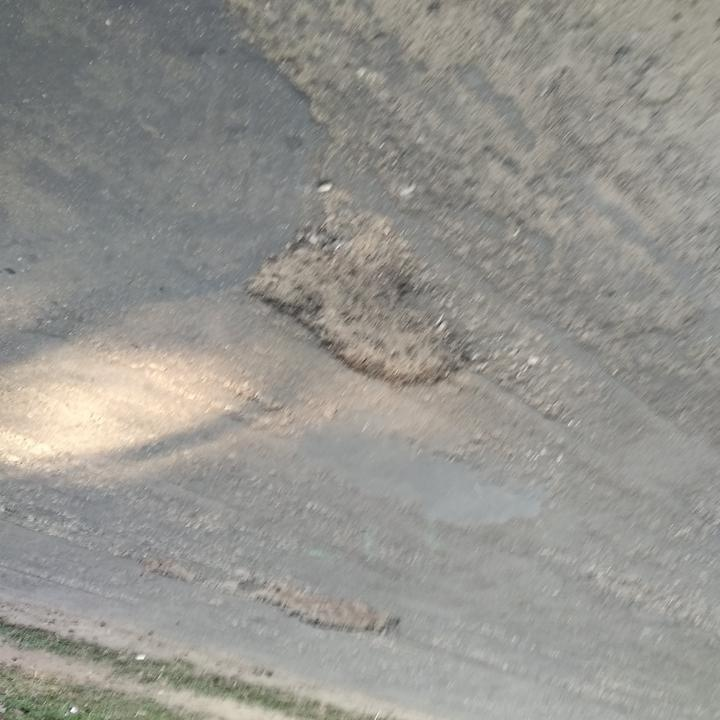pothole: (234, 204, 473, 396), (248, 583, 404, 639)
